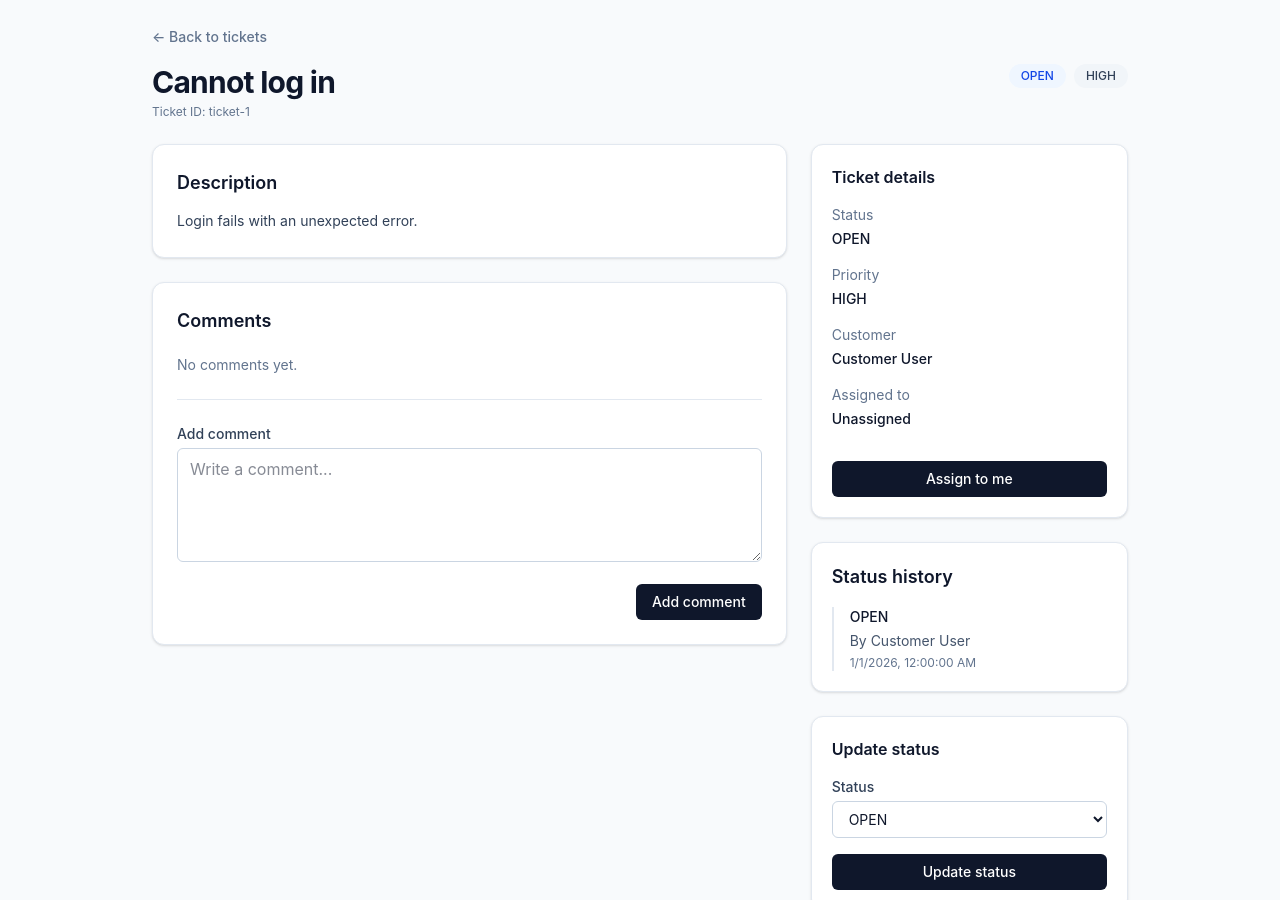
Test: TicketDetailPage › shows an error when comment creation fails
Expected: the heading "Cannot log in" is shown, [152, 64, 335, 100]
Type "More details" into the text box labelled "Add comment" at (469, 505), box [177, 448, 762, 562]
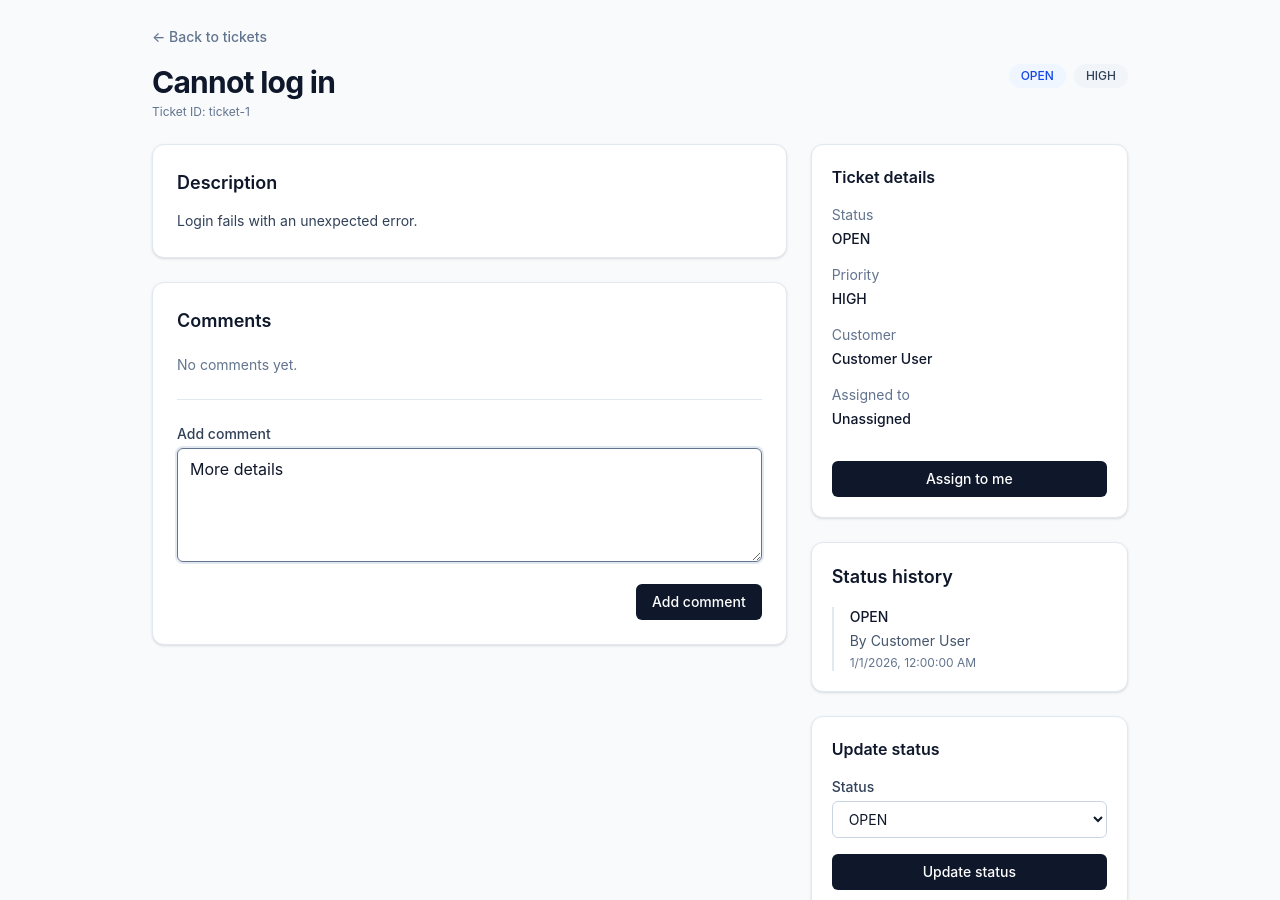
Click the button "Add comment" at (699, 602), box [636, 584, 762, 620]
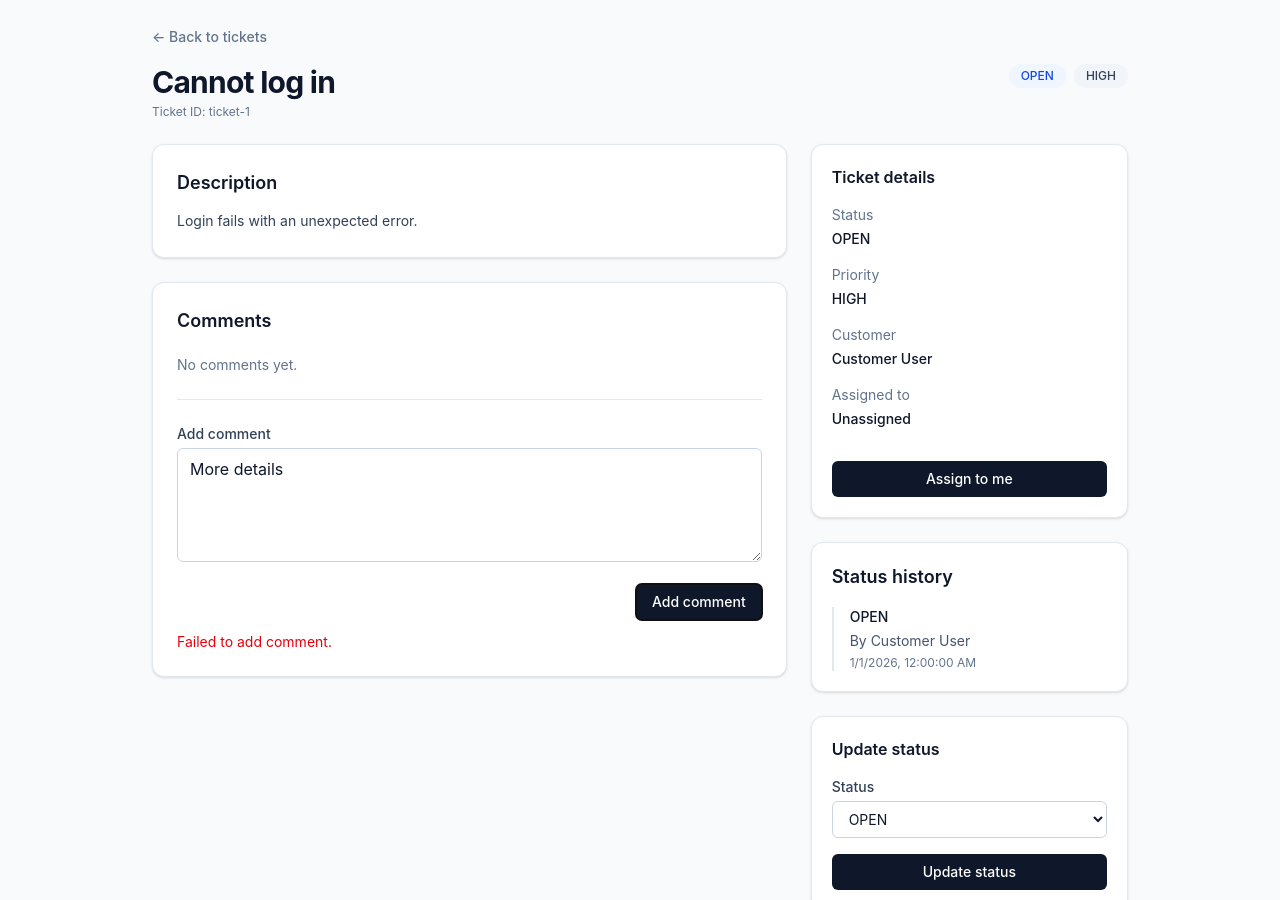
Expected: the text "Failed to add comment." is shown, [177, 633, 332, 650]
